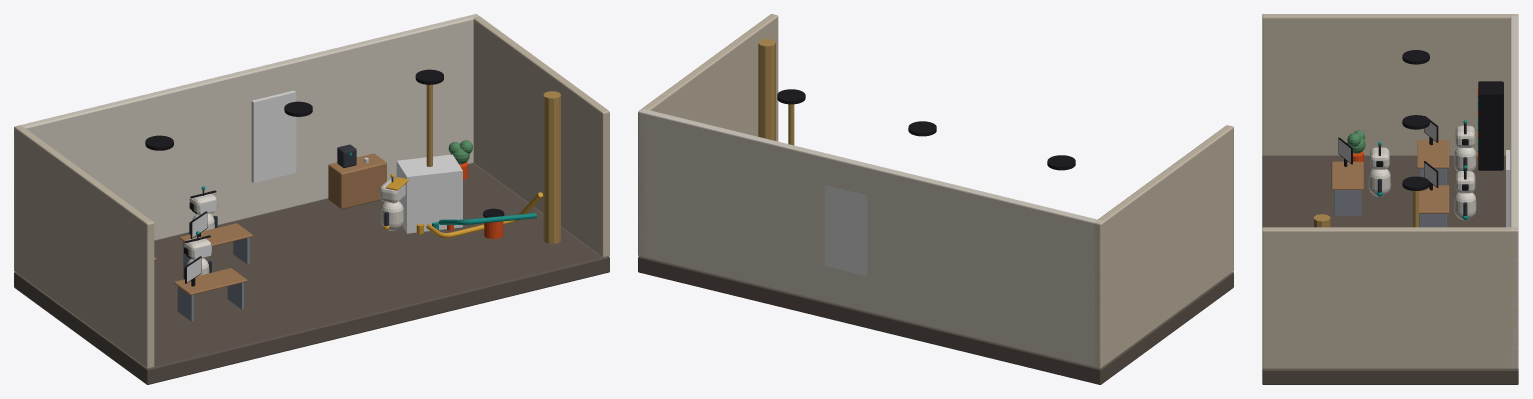
File: agents.glb
3 renders of one model, left to right at view 1: azimuth 30°, elevation 25°; view 2: azimuth 150°, elevation 25°; view 3: azimuth 270°, elevation 25°, orthographic. The views are drawn at different scales.
Visible parts, largest first — view 1: static, hit__sorter, hit__phone, dyn__sorter__body, dyn__sorter__head; view 2: static, hit__phone; view 3: static, screens, dyn__op-2__body, dyn__op-3__body, dyn__op-1__body, dyn__op-2__head, dyn__op-1__head, dyn__op-3__head, hit__phone.
Boxes of the visible parts, bbox=[...] form: static: bbox=[14, 14, 609, 384]; hit__sorter: bbox=[396, 154, 462, 233]; hit__phone: bbox=[251, 90, 296, 182]; dyn__sorter__body: bbox=[381, 201, 403, 230]; dyn__sorter__head: bbox=[379, 174, 408, 203]; static: bbox=[638, 14, 1233, 384]; hit__phone: bbox=[824, 185, 867, 275]; static: bbox=[1262, 14, 1518, 384]; screens: bbox=[1338, 122, 1436, 186]; dyn__op-2__body: bbox=[1454, 192, 1476, 220]; dyn__op-3__body: bbox=[1368, 169, 1390, 196]; dyn__op-1__body: bbox=[1454, 147, 1476, 171]; dyn__op-2__head: bbox=[1455, 165, 1475, 193]; dyn__op-1__head: bbox=[1455, 120, 1475, 147]; dyn__op-3__head: bbox=[1370, 142, 1389, 169]; hit__phone: bbox=[1506, 150, 1510, 227].
Bounding box in the file's own units: 12 × 4.03 × 6.
